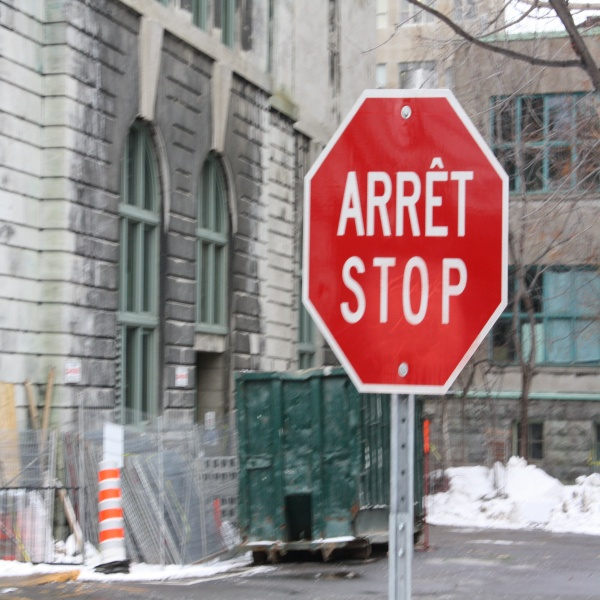stop: (308, 94, 519, 391)
